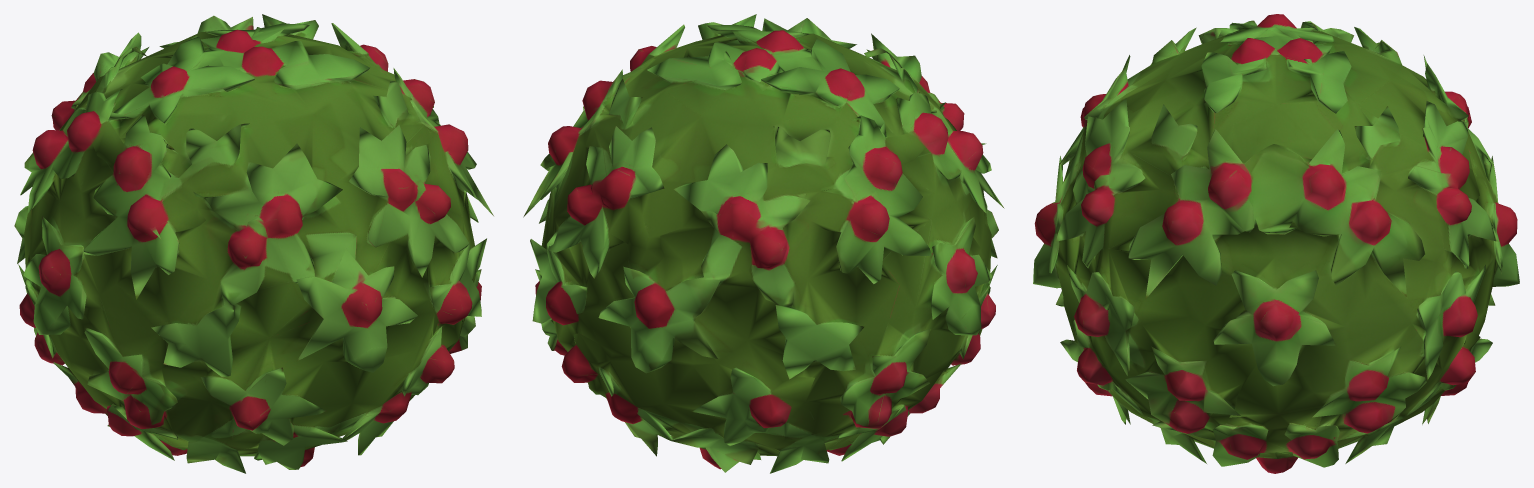
The model's file is bush.glb.
3 views of the same model, side by side, from view 1: azimuth 30°, elevation 25°; view 2: azimuth 150°, elevation 25°; view 3: azimuth 270°, elevation 25° (orthographic).
Parts seen in each view (by area): view 1: Mesh_0; view 2: Mesh_0; view 3: Mesh_0.
Part boxes in pixels (x1=…): Mesh_0: x1=14, y1=14, x2=493, y2=473; Mesh_0: x1=523, y1=14, x2=1004, y2=473; Mesh_0: x1=1033, y1=14, x2=1519, y2=473.
Size of the model in its own units: 1.9 by 1.75 by 1.9.
Materials: 1 (1 with a texture image).
